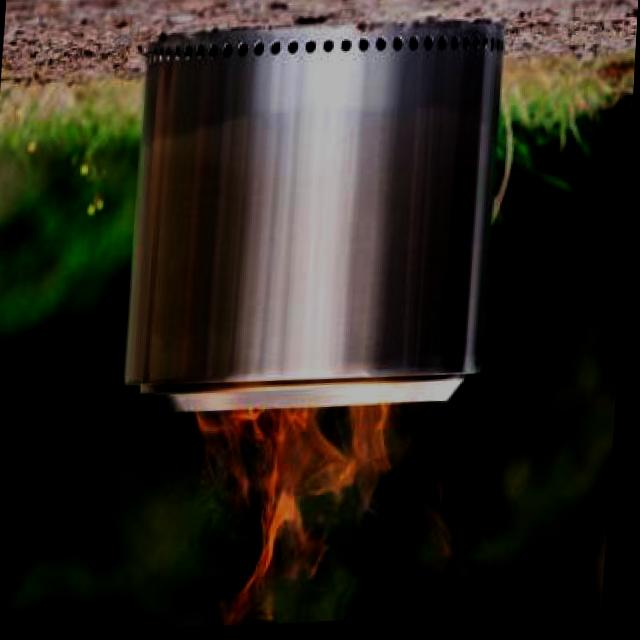Fire: (181, 394, 470, 632)
